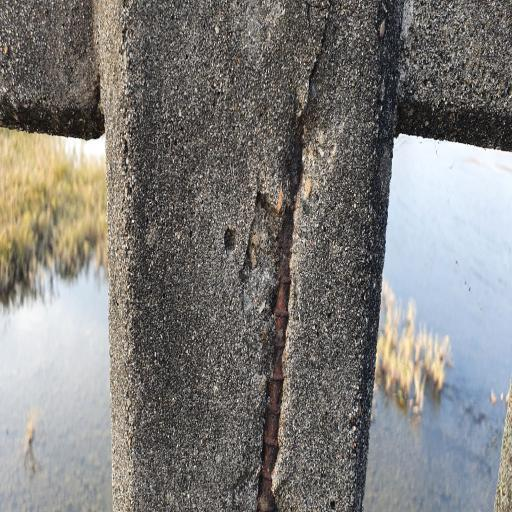exposed_rebar: (257, 119, 302, 512)
